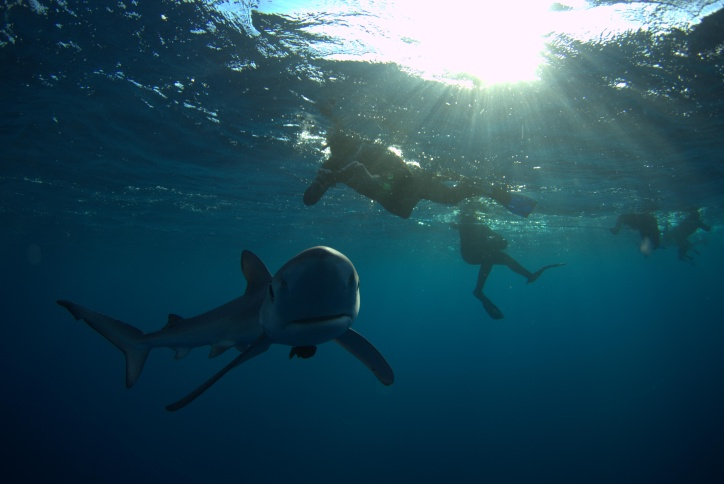Azul: (35, 233, 407, 417)
